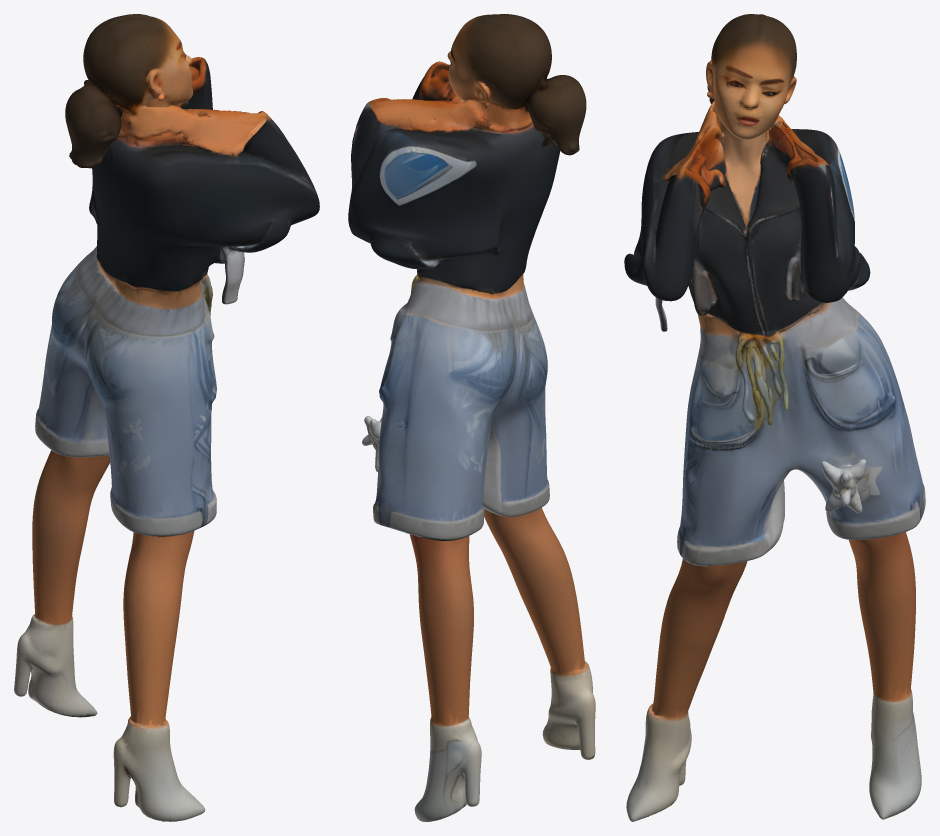
The model's file is tripo_pbr_model_b67bdab9-316a-_27c1284d_opt.glb.
The picture shows the model from 3 angles, left to right: view 1: azimuth 30°, elevation 25°; view 2: azimuth 150°, elevation 25°; view 3: azimuth 270°, elevation 25°; orthographic projection. The views are drawn at different scales.
Parts seen in each view (by area): view 1: tripo_node_b67bdab9-316a-4b39-af52-d7ee43f8762f; view 2: tripo_node_b67bdab9-316a-4b39-af52-d7ee43f8762f; view 3: tripo_node_b67bdab9-316a-4b39-af52-d7ee43f8762f.
Boxes of the visible parts, <box> form: tripo_node_b67bdab9-316a-4b39-af52-d7ee43f8762f: <box>14,14,319,821</box>; tripo_node_b67bdab9-316a-4b39-af52-d7ee43f8762f: <box>348,14,595,821</box>; tripo_node_b67bdab9-316a-4b39-af52-d7ee43f8762f: <box>624,14,925,821</box>.
Bounding box in the file's own units: 0.2928 × 1 × 0.3429.
Materials: 1 (1 with a texture image).
